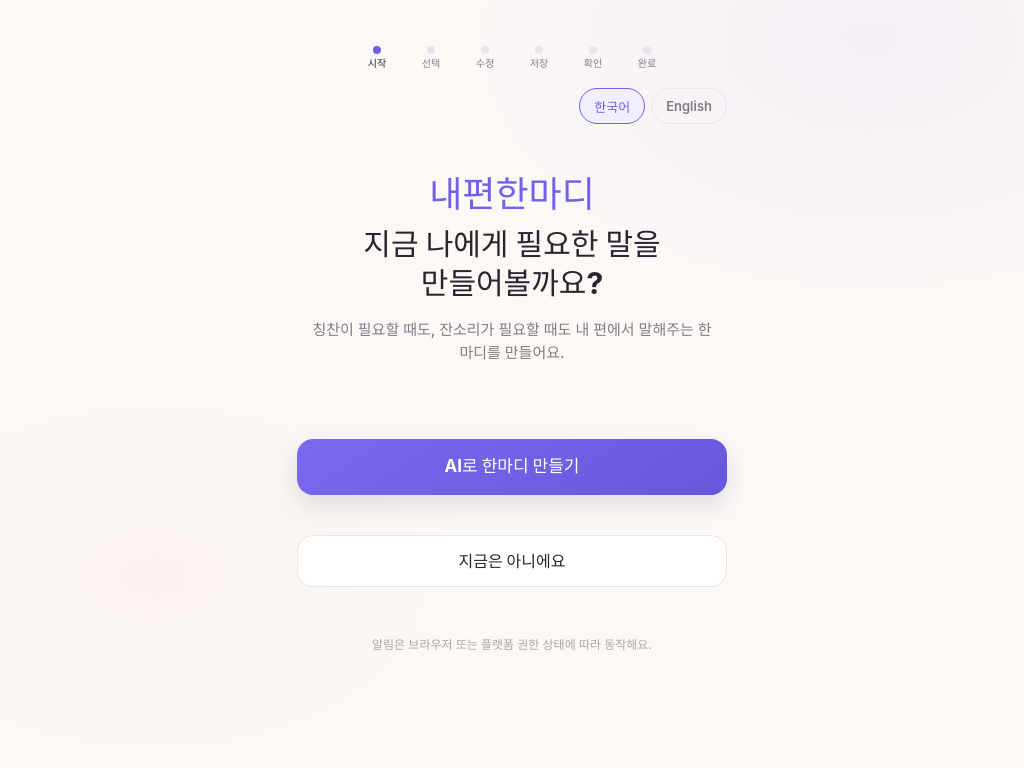
Test: 칭찬해줘 v0.4 home + check-in flow › shows a top-left back button after leaving landing
The image size is (1024, 768).
Click the button "AI로 한마디 만들기" at (512, 467), box [297,439,727,495]
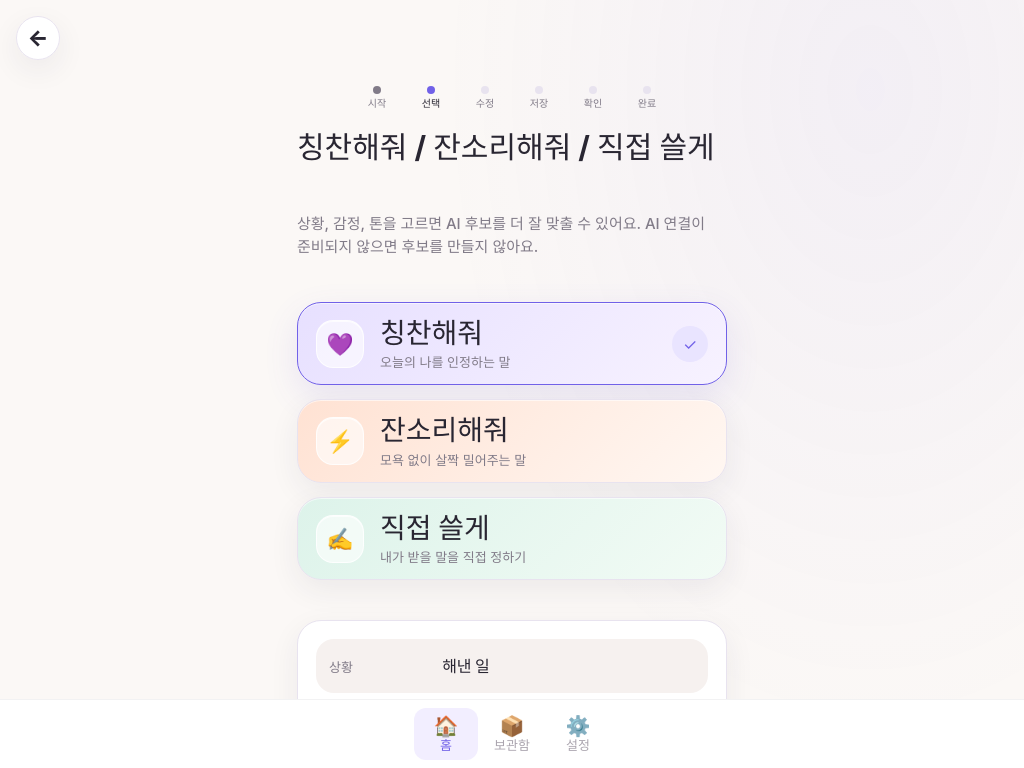
expect the button "🏠 홈" is shown: met, box [414,708,478,760]
expect the button "📦 보관함" is shown: met, box [478,708,546,760]
expect the button "⚙️ 설정" is shown: met, box [546,708,610,760]
Click the button named "뒤로" at (38, 38), box [16,16,60,60]
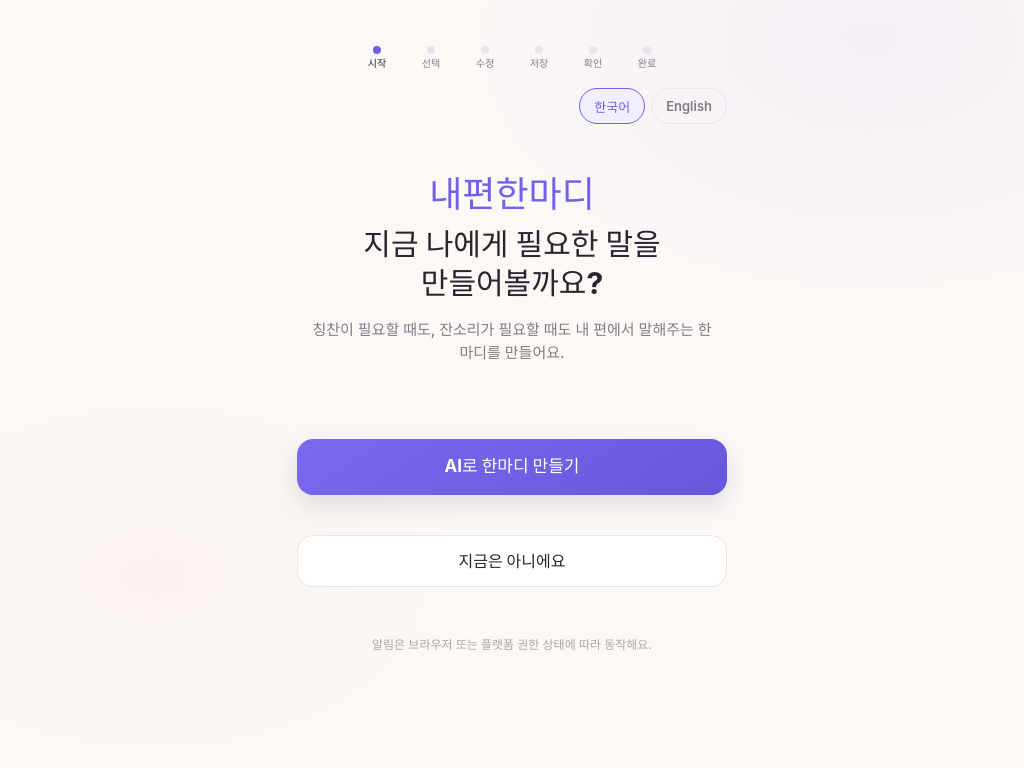
expect the heading "지금 나에게 필요한 말을 만들어볼까요?" is shown: met, box [363,226,661,301]
expect the button "뒤로" is gone: met
